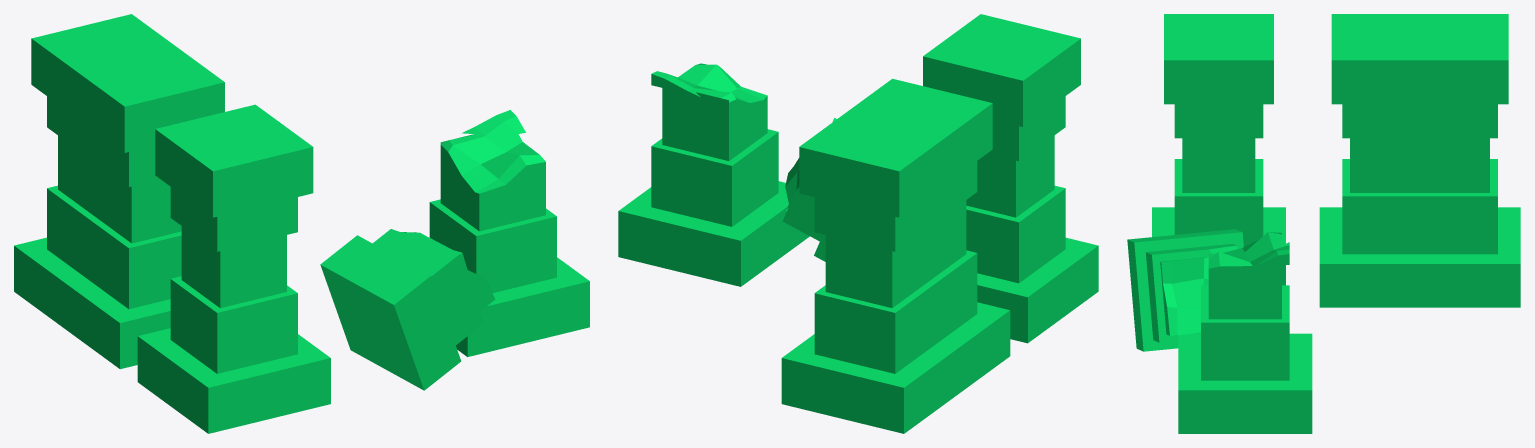
The model's file is Collumnsfbx.fbx.
The picture shows the model from 3 angles, left to right: view 1: azimuth 30°, elevation 25°; view 2: azimuth 150°, elevation 25°; view 3: azimuth 270°, elevation 25°; orthographic projection. The views are drawn at different scales.
Parts seen in each view (by area): view 1: Column2, Column1, Column1_Colapsed_P1, Column1_Colapsed_P2; view 2: Column2, Column1, Column1_Colapsed_P1, Column1_Colapsed_P2; view 3: Column2, Column1, Column1_Colapsed_P1, Column1_Colapsed_P2.
Boxes of the visible parts, <box> form: Column2: <box>14,14,224,369</box>; Column1: <box>137,104,330,433</box>; Column1_Colapsed_P1: <box>429,110,589,356</box>; Column1_Colapsed_P2: <box>320,229,495,390</box>; Column2: <box>781,78,1010,433</box>; Column1: <box>923,14,1098,343</box>; Column1_Colapsed_P1: <box>618,63,809,286</box>; Column1_Colapsed_P2: <box>782,118,836,261</box>; Column2: <box>1319,14,1520,307</box>; Column1: <box>1152,14,1285,285</box>; Column1_Colapsed_P1: <box>1178,232,1312,433</box>; Column1_Colapsed_P2: <box>1127,229,1243,351</box>.
Size of the model in its own units: 646 by 401 by 587.
